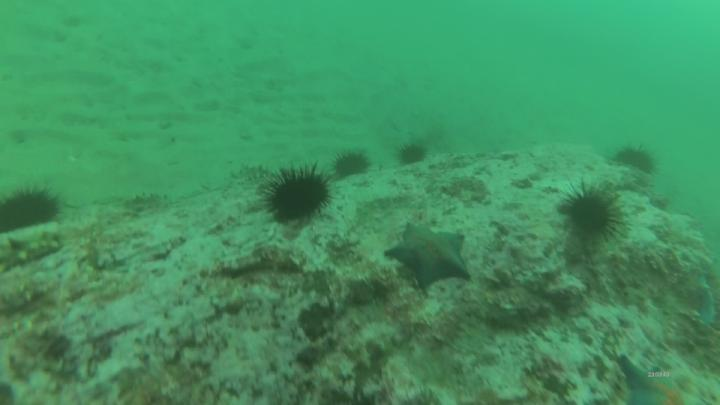echinus: (267, 171, 329, 220), (3, 194, 59, 233), (570, 194, 612, 234), (615, 147, 654, 173), (333, 154, 368, 177), (400, 146, 424, 166)
starfish: (388, 226, 474, 287), (620, 353, 688, 405)
